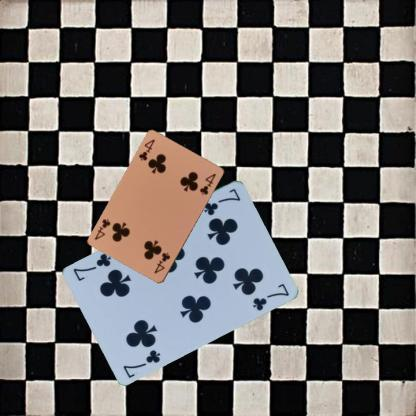4c: (136, 136, 156, 162), (152, 250, 172, 275)
7c: (121, 347, 162, 379), (201, 186, 242, 216)
